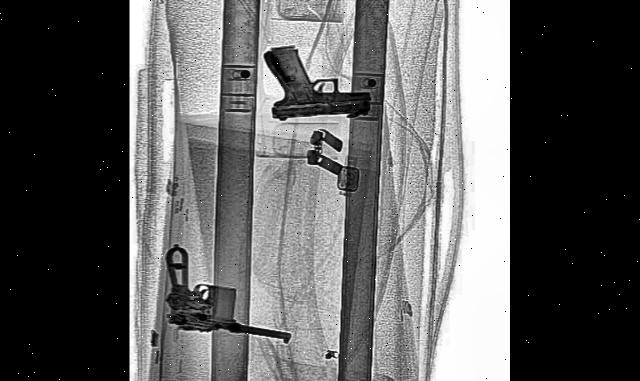Gun: (160, 238, 294, 351), (262, 40, 370, 118)
